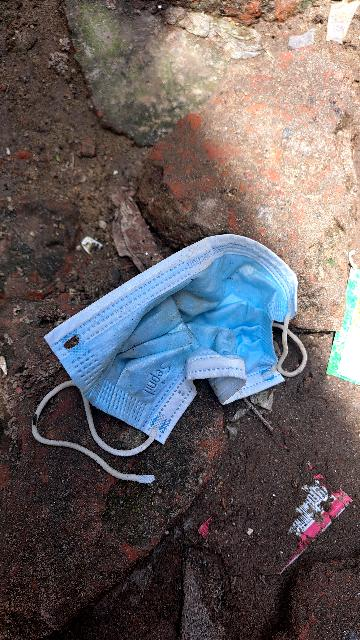mask: (18, 221, 343, 486)
